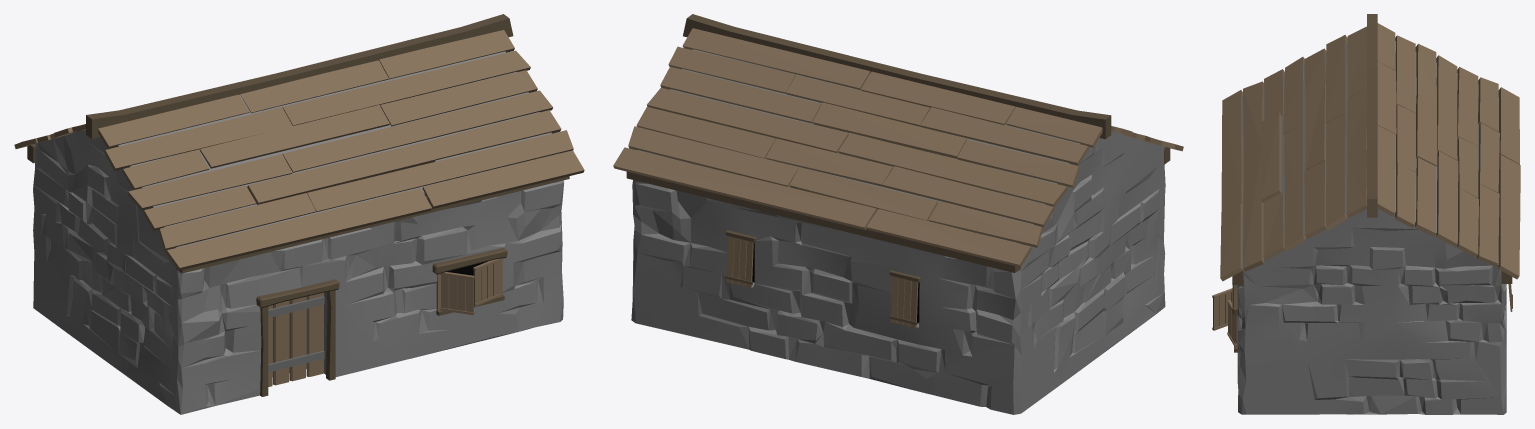
Rendered from village_stone_house_g.FBX.
3 renders of one model, left to right at view 1: azimuth 30°, elevation 25°; view 2: azimuth 150°, elevation 25°; view 3: azimuth 270°, elevation 25°, orthographic. The views are drawn at different scales.
Visible parts, largest first — view 1: village_stone_house_g; view 2: village_stone_house_g; view 3: village_stone_house_g.
Part boxes in pixels (left/top/right/bottom): village_stone_house_g: left=14, top=14, right=584, bottom=414; village_stone_house_g: left=613, top=14, right=1183, bottom=414; village_stone_house_g: left=1212, top=14, right=1520, bottom=414.
Bounding box in the file's own units: 8.17 × 4.58 × 5.73.
